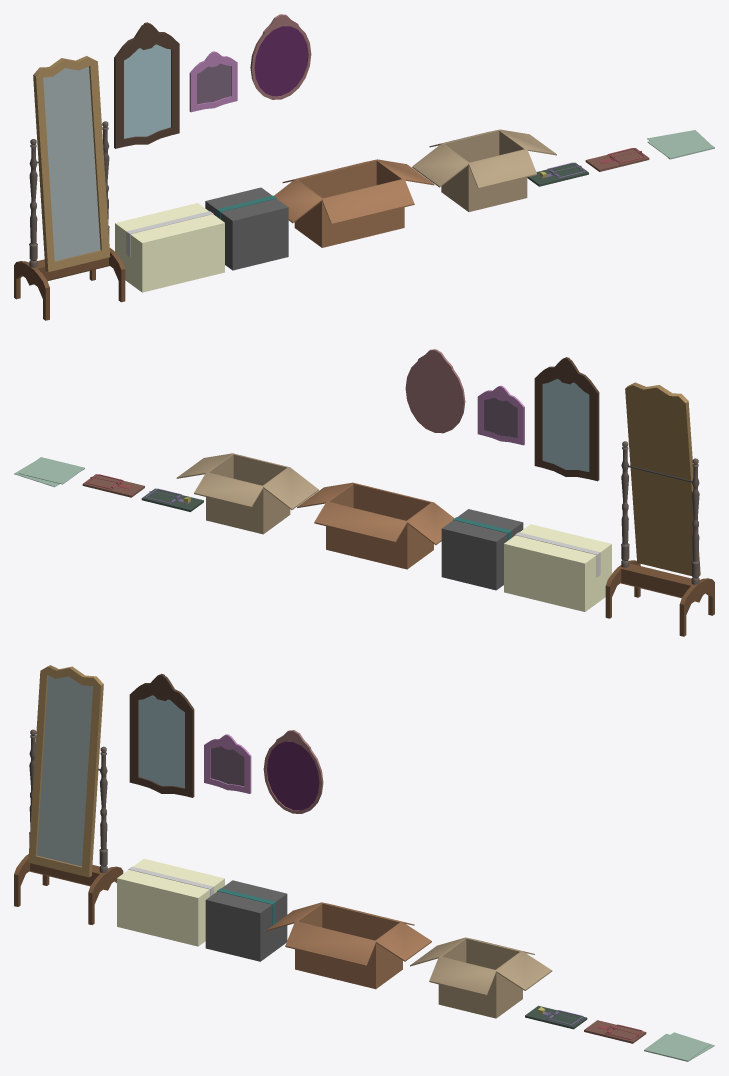
The model's file is ExtraDecor_UVDone_Fixed.fbx.
3 renders of one model, top to bottom at view 1: azimuth 30°, elevation 25°; view 2: azimuth 150°, elevation 25°; view 3: azimuth 330°, elevation 25°, orthographic.
Parts seen in each view (by area): view 1: StandingMirror, CardboardBox_Open1, CardboardBox_Closed1, CardboardBox_Open2, MirrorLarge, CardboardBox_Closed2, RegularMirror_Small2, MirrorSmall, Newspapers_1, Rat_TrapEmpty, RatTrap_Bait; view 2: StandingMirror, CardboardBox_Open1, CardboardBox_Closed1, MirrorLarge, CardboardBox_Open2, CardboardBox_Closed2, RegularMirror_Small2, MirrorSmall, Newspapers_1, RatTrap_Bait, Rat_TrapEmpty; view 3: StandingMirror, CardboardBox_Open1, MirrorLarge, CardboardBox_Open2, CardboardBox_Closed1, CardboardBox_Closed2, RegularMirror_Small2, MirrorSmall, Newspapers_1, Rat_TrapEmpty, RatTrap_Bait.
Boxes of the visible parts, x1,y1,x2,y2 form: StandingMirror: (14, 56, 125, 320); CardboardBox_Open1: (274, 159, 434, 247); CardboardBox_Closed1: (115, 203, 224, 292); CardboardBox_Open2: (412, 129, 556, 211); MirrorLarge: (114, 22, 179, 148); CardboardBox_Closed2: (205, 187, 288, 270); RegularMirror_Small2: (250, 14, 311, 99); MirrorSmall: (189, 51, 237, 112); Newspapers_1: (647, 130, 714, 159); Rat_TrapEmpty: (585, 148, 649, 171); RatTrap_Bait: (527, 162, 588, 186); StandingMirror: (605, 382, 714, 636); CardboardBox_Open1: (297, 482, 454, 569); CardboardBox_Closed1: (504, 524, 611, 611); MirrorLarge: (534, 357, 599, 481); CardboardBox_Open2: (176, 453, 318, 534); CardboardBox_Closed2: (441, 509, 523, 590); RegularMirror_Small2: (405, 349, 465, 433); MirrorSmall: (477, 385, 524, 445); Newspapers_1: (14, 457, 84, 487); RatTrap_Bait: (141, 488, 203, 511); Rat_TrapEmpty: (82, 474, 144, 497); StandingMirror: (14, 665, 123, 924); CardboardBox_Open1: (266, 902, 431, 989); MirrorLarge: (129, 673, 194, 797); CardboardBox_Open2: (410, 937, 552, 1018); CardboardBox_Closed1: (117, 858, 224, 946); CardboardBox_Closed2: (205, 880, 287, 961); RegularMirror_Small2: (263, 730, 323, 813); MirrorSmall: (204, 734, 251, 793); Newspapers_1: (644, 1032, 714, 1061); Rat_TrapEmpty: (584, 1020, 646, 1043); RatTrap_Bait: (525, 1005, 587, 1029).
Bounding box in the file's own units: 50.62 × 17.63 × 6.32.
